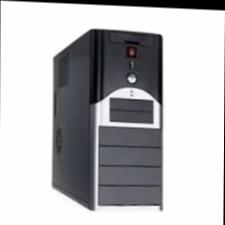pc: (46, 23, 173, 214)
